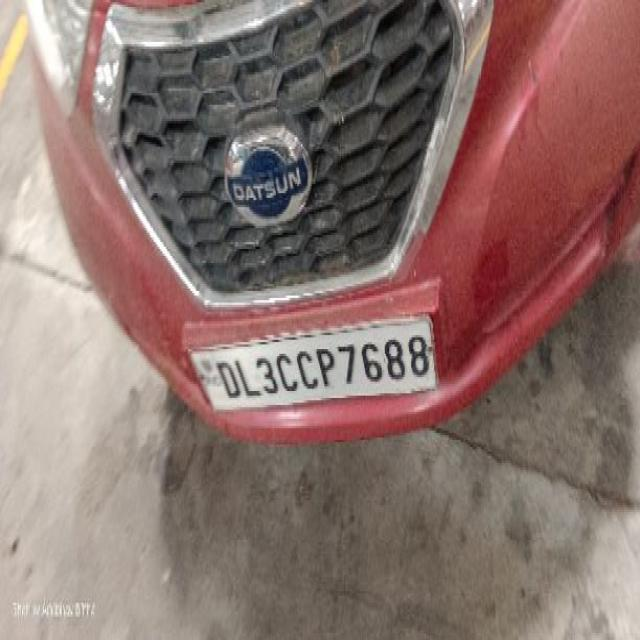license_plate: (22, 0, 638, 447)
